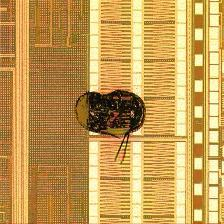PARTICLE: (74, 88, 151, 169)
